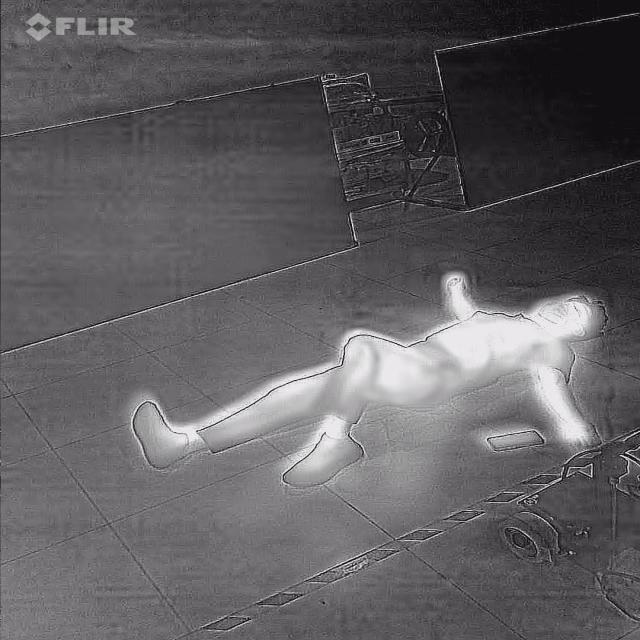Victim: (120, 269, 617, 489)
